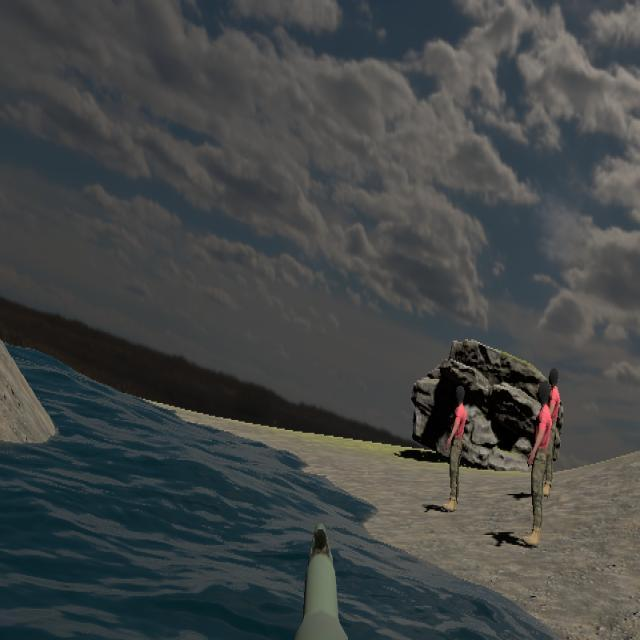Human: (522, 380, 555, 548), (443, 385, 468, 513), (539, 368, 562, 500)
